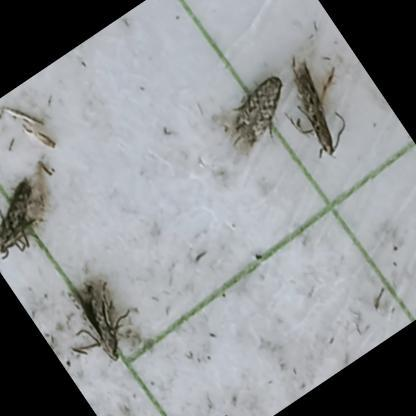prays_oleae: (254, 40, 382, 186), (37, 257, 162, 395), (202, 60, 305, 160), (0, 144, 77, 272)
